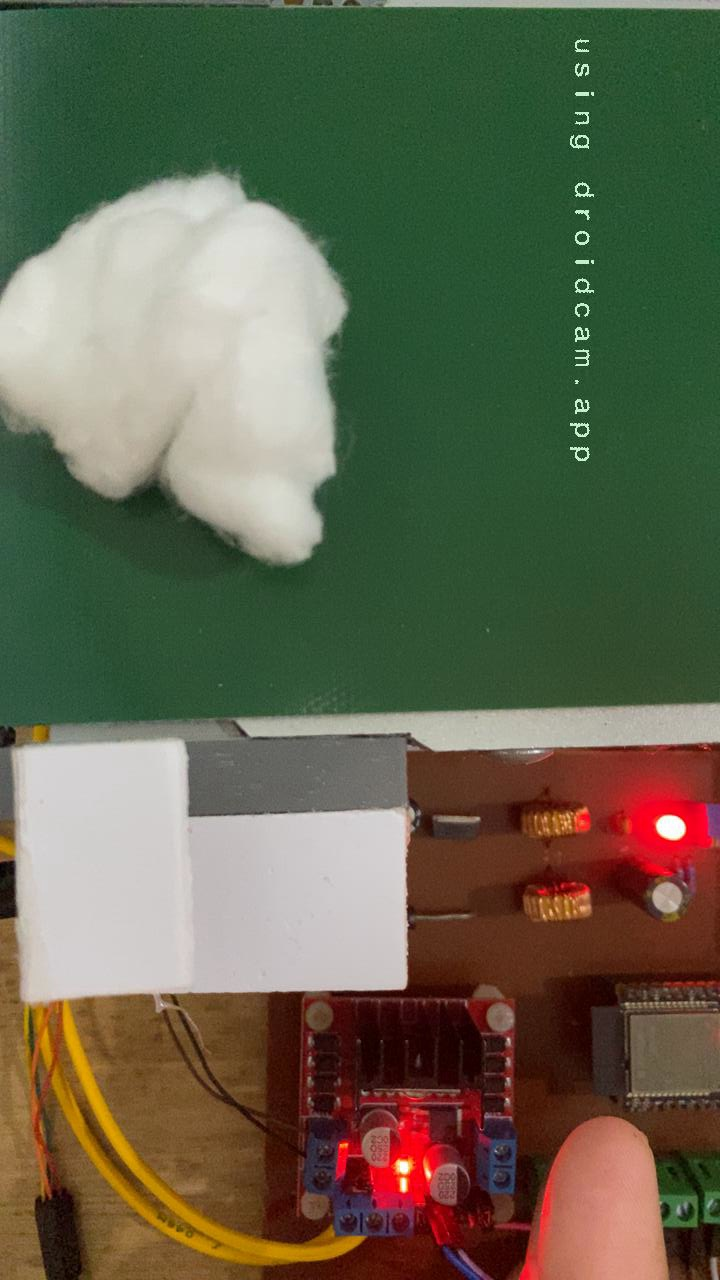cotton: (0, 168, 356, 571)
